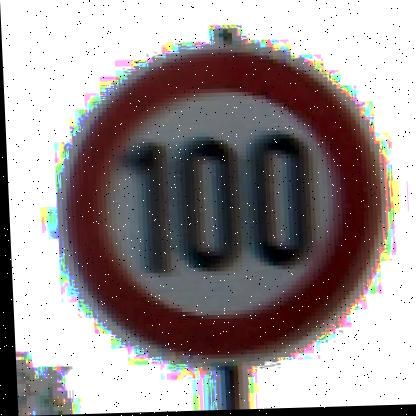Speed Limit -100-: (51, 43, 393, 374)
